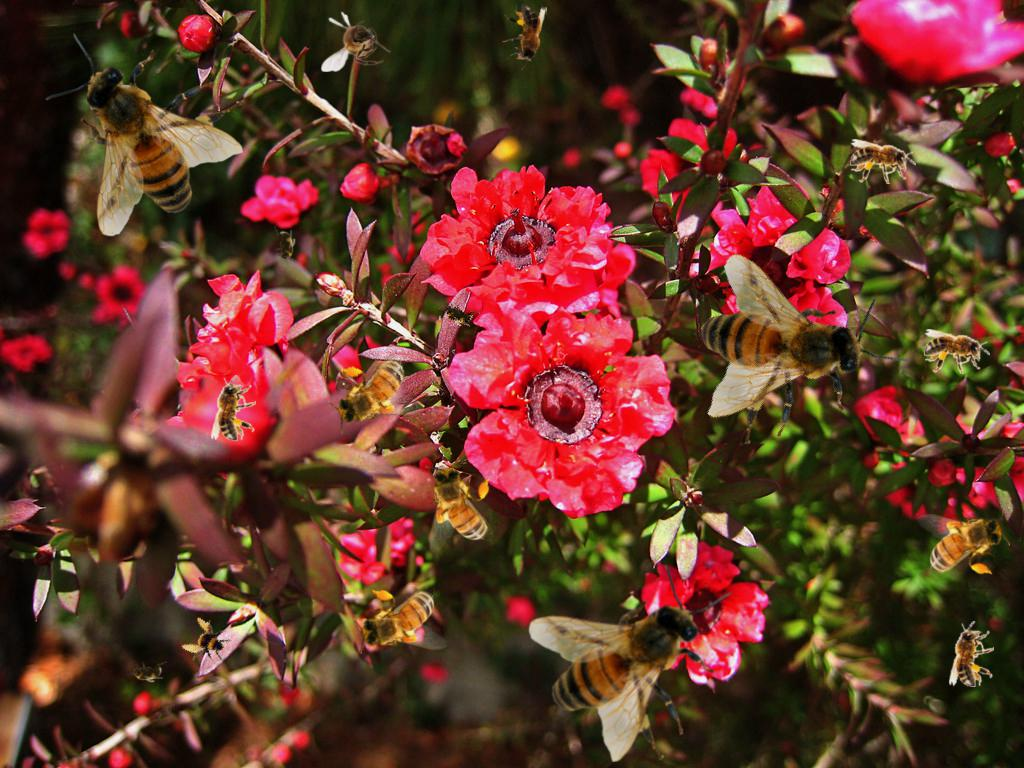Bee: (642, 207, 927, 491), (44, 33, 243, 237), (528, 563, 732, 762), (321, 349, 427, 436), (425, 460, 493, 553), (917, 510, 1010, 578), (354, 586, 447, 654), (321, 11, 391, 72), (177, 613, 237, 673), (924, 329, 990, 374), (502, 4, 547, 70), (850, 139, 916, 184), (949, 621, 994, 687), (211, 375, 256, 441), (435, 295, 481, 333), (274, 226, 296, 266), (127, 661, 167, 683)
